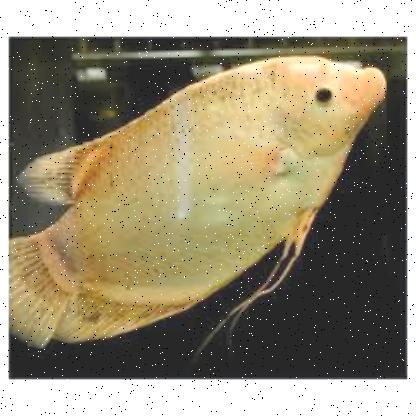gurame: (9, 51, 392, 345)
